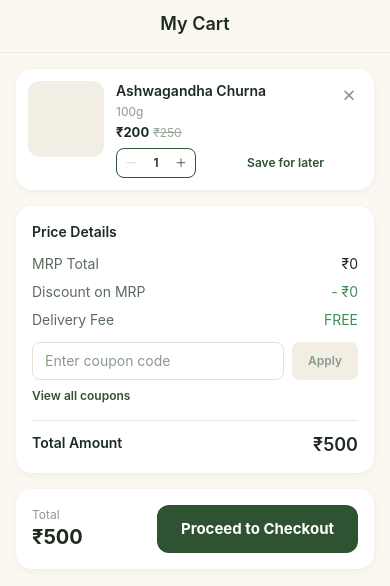
Test: CartScreen › entering a coupon code directly › disables Apply until something is typed
Expected: the button "Apply" is disabled, x1=292 y1=342 x2=358 y2=380
Type "SAVE10" into the field with placeholder "Enter coupon code" at (158, 361), box x1=32 y1=342 x2=284 y2=380
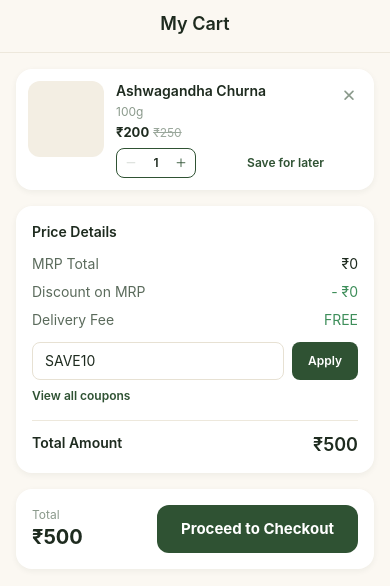
Expected: the button "Apply" is enabled, x1=292 y1=342 x2=358 y2=380
